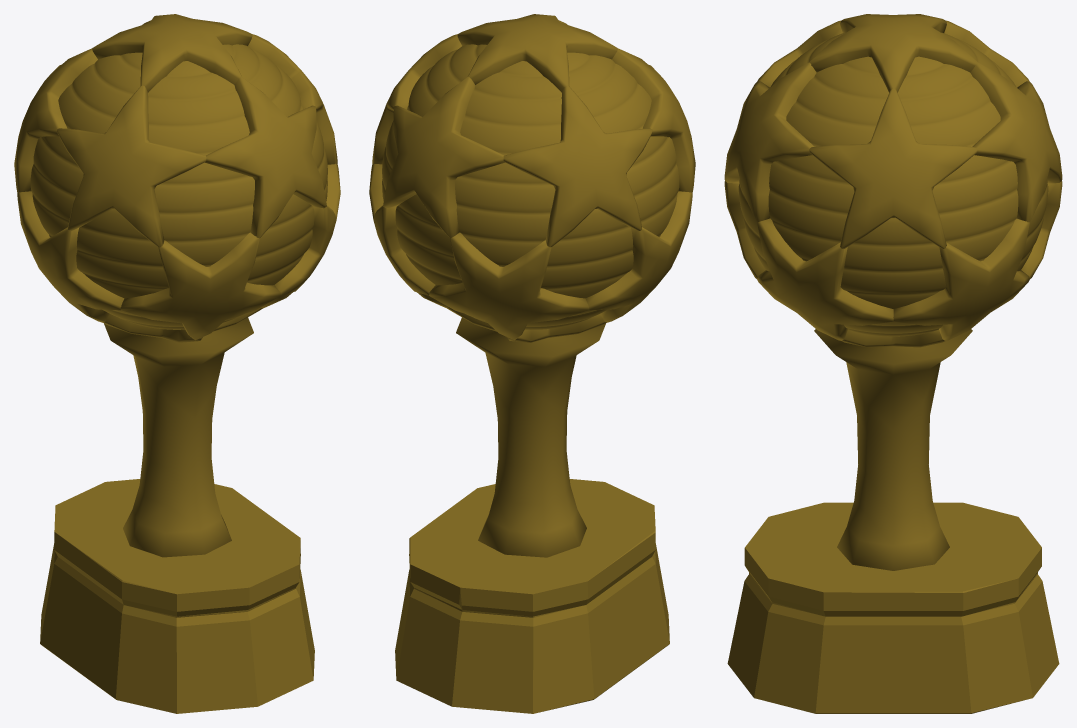
The model's file is mom_soccer_trophy(1).fbx.
3 renders of one model, left to right at view 1: azimuth 30°, elevation 25°; view 2: azimuth 150°, elevation 25°; view 3: azimuth 270°, elevation 25°, orthographic. The views are drawn at different scales.
Parts seen in each view (by area): view 1: stars, base, sphere, stand; view 2: stars, base, sphere, stand; view 3: base, stars, sphere, stand.
Boxes of the visible parts, box(x1,y1,x2,y2) form: stars: box(14, 14, 340, 342); base: box(40, 479, 314, 713); sphere: box(30, 44, 327, 329); stand: box(104, 317, 253, 557); stars: box(369, 14, 695, 342); base: box(395, 479, 669, 713); sphere: box(382, 44, 679, 329); stand: box(456, 317, 605, 557); base: box(727, 502, 1059, 713); stars: box(724, 14, 1062, 347); sphere: box(738, 32, 1048, 336); stand: box(814, 329, 972, 570).
Bounding box in the file's own units: 46.3 × 98.03 × 47.08.
